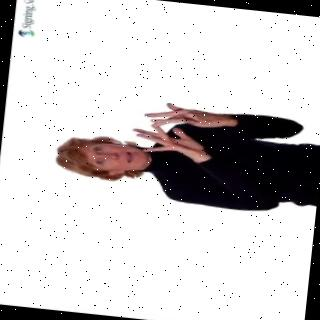Internet: (46, 91, 318, 216)
